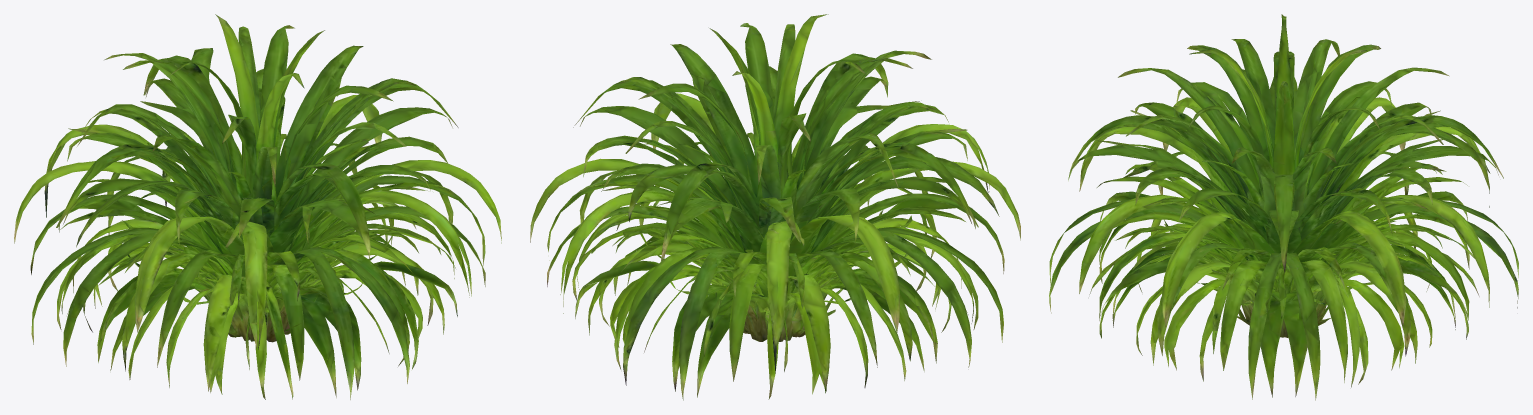
The model's file is damp-sedge-tussock.glb.
The picture shows the model from 3 angles, left to right: view 1: azimuth 30°, elevation 25°; view 2: azimuth 150°, elevation 25°; view 3: azimuth 270°, elevation 25°; orthographic projection. The views are drawn at different scales.
Parts seen in each view (by area): view 1: Mesh_0; view 2: Mesh_0; view 3: Mesh_0.
Boxes of the visible parts, left/top/right/bottom form: Mesh_0: left=14, top=14, right=501, bottom=399; Mesh_0: left=530, top=14, right=1020, bottom=400; Mesh_0: left=1049, top=14, right=1518, bottom=400.
Size of the model in its own units: 0.618 by 0.4 by 0.6174.
1 material, 1 textured.
